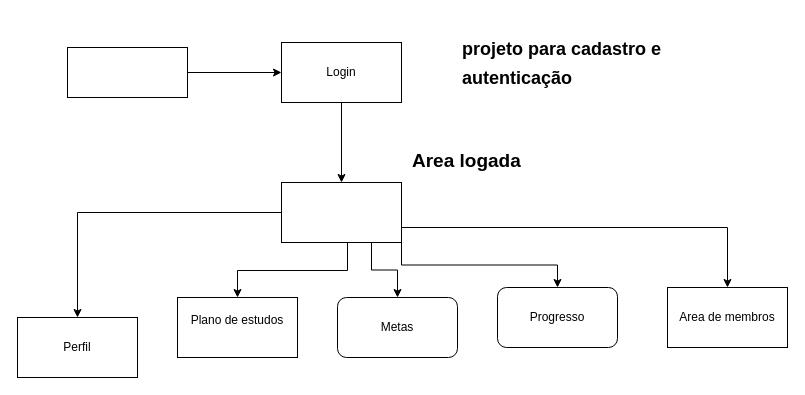
Image size: 805x395. Some labels were removed from this diagram. The centre of each missing label's shape, as x and y in pixels:
Cadastro usuario: [127,72]
Pagina Principal: [341,212]
